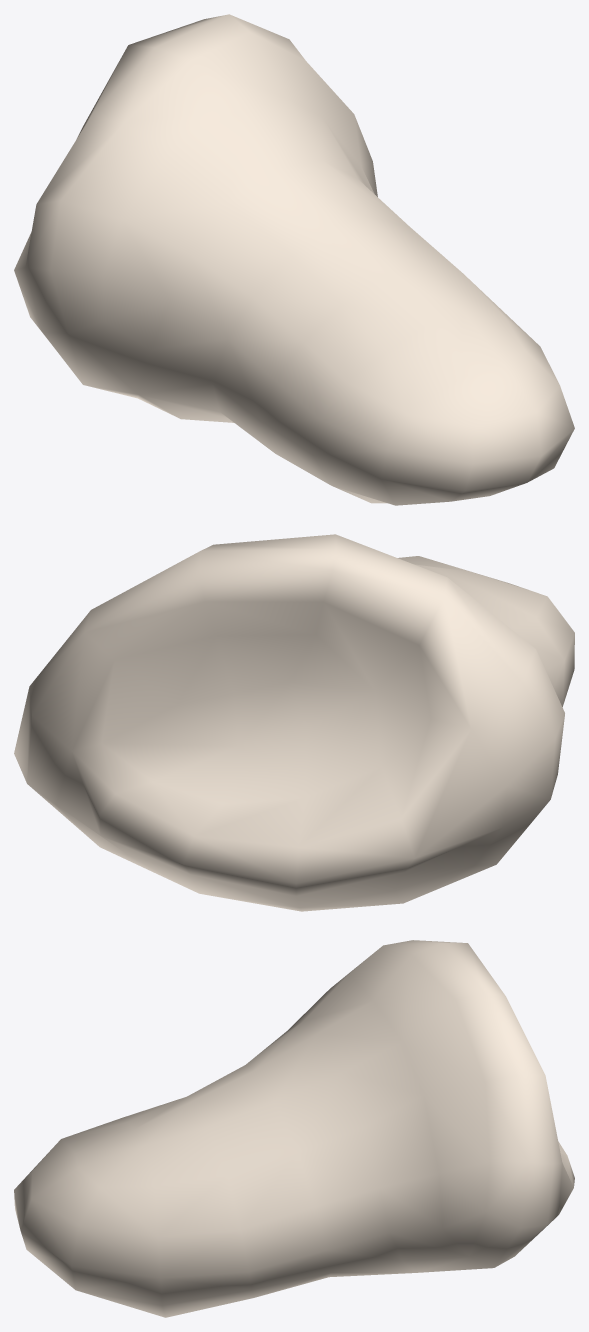
File: left_toe_4_distal.glb
3 views of the same model, one above another, from view 1: azimuth 30°, elevation 25°; view 2: azimuth 150°, elevation 25°; view 3: azimuth 270°, elevation 25° (orthographic). The views are drawn at different scales.
Parts seen in each view (by area): view 1: Distal phalanx of fourth finger of foot.r; view 2: Distal phalanx of fourth finger of foot.r; view 3: Distal phalanx of fourth finger of foot.r.
Boxes of the visible parts, bbox=[...] form: Distal phalanx of fourth finger of foot.r: bbox=[14, 14, 574, 505]; Distal phalanx of fourth finger of foot.r: bbox=[14, 534, 574, 911]; Distal phalanx of fourth finger of foot.r: bbox=[14, 940, 574, 1317].
Size of the model in its own units: 0.00514 by 0.00426 by 0.00709.
